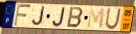B: (66, 7, 85, 30)
F: (13, 3, 33, 28)
J: (52, 7, 67, 28), (32, 6, 46, 27)
M: (86, 7, 106, 30)
U: (104, 7, 123, 31)
